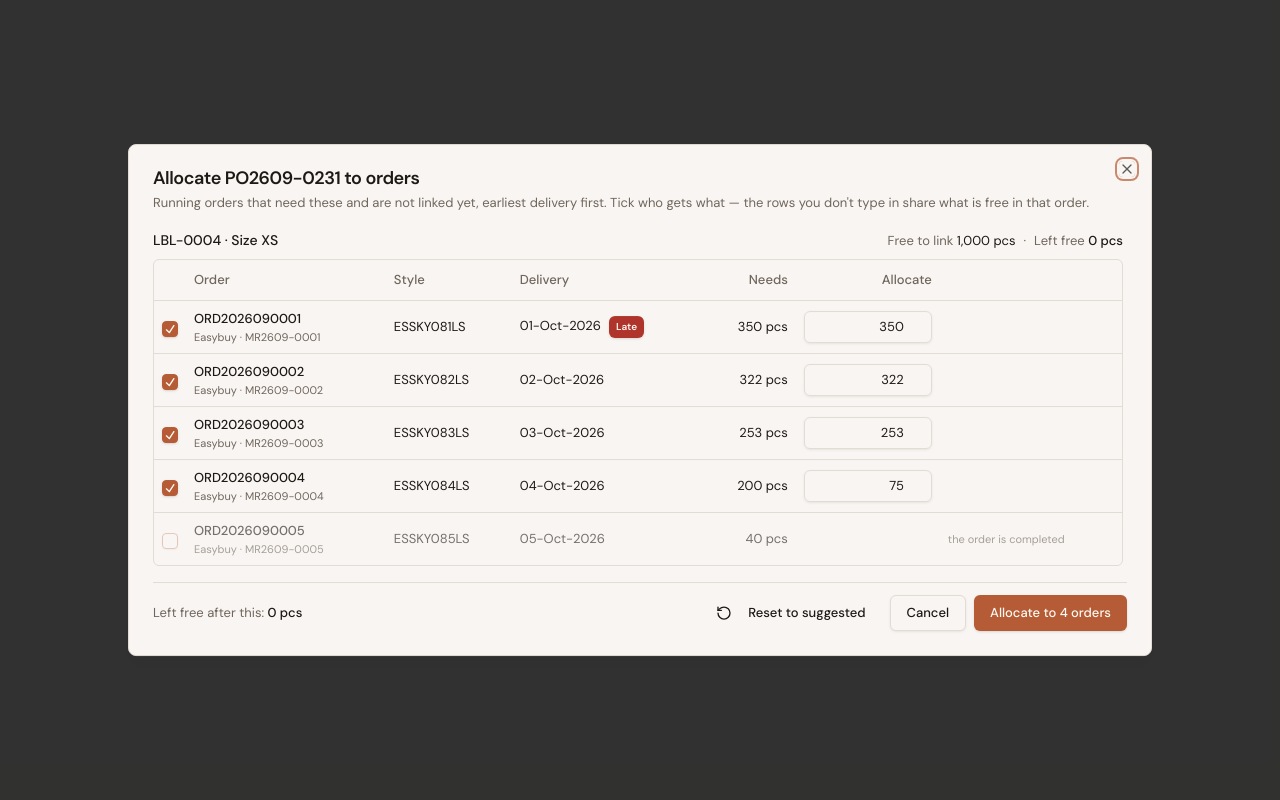
AllocateToOrdersDialog › unticking the first order gives its share to the next ones and updates what is left free
Expected: the heading "Allocate PO2609-0231 to orders" is shown, x1=153 y1=166 x2=420 y2=190
Click the checkbox named "Allocate to ORD2026090001": (170, 329) x1=162 y1=321 x2=178 y2=337
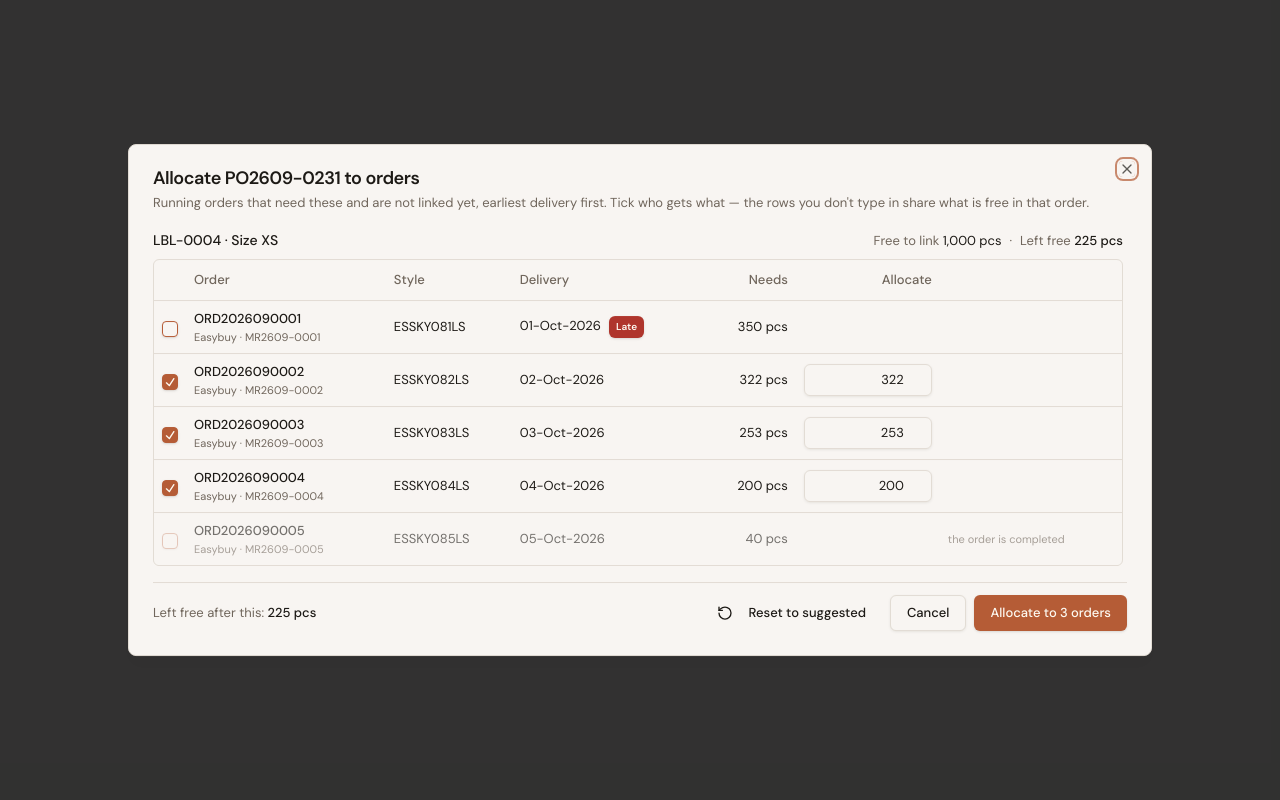
Expected: the text "225 pcs" in the row of "1,000 pcs" is shown, x1=1074 y1=232 x2=1123 y2=249
